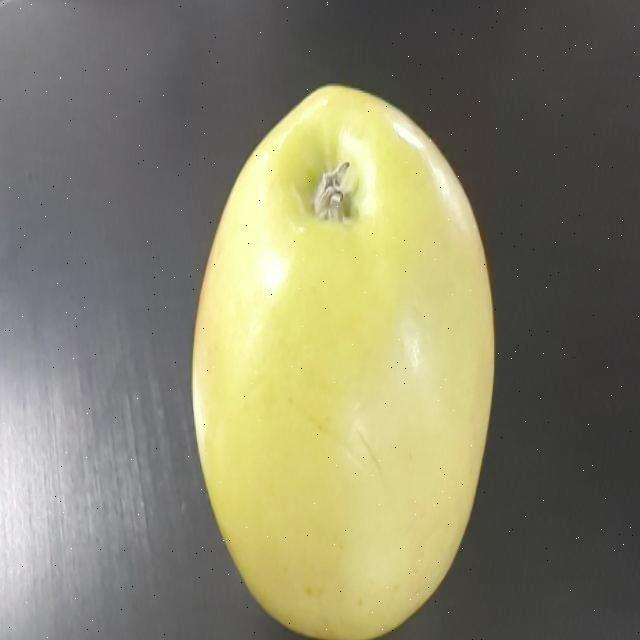Apel Gala: (189, 51, 498, 640)
